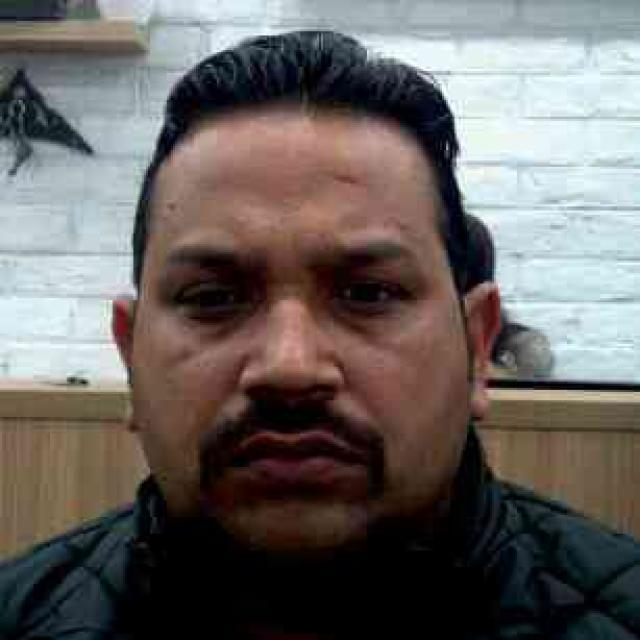Puffy Eyes - v3 Dark Circle: (178, 297, 272, 341), (323, 302, 423, 339)
